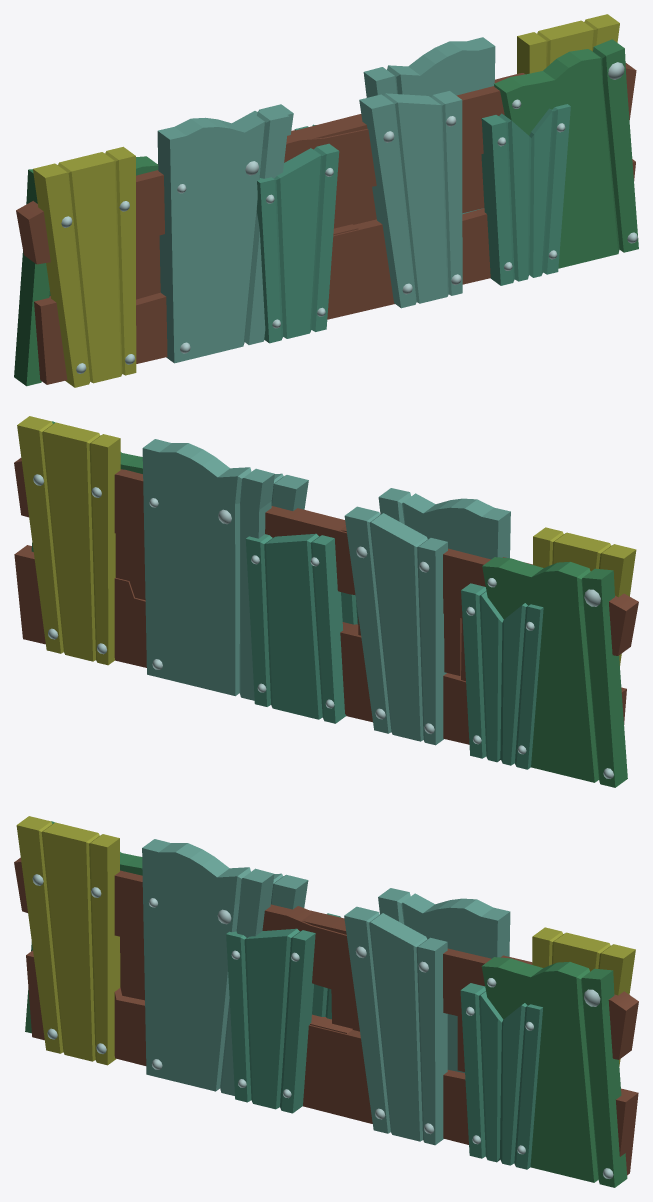
File: BR_Gate_7x2.5x1.fbx
The picture shows the model from 3 angles, top to bottom: view 1: azimuth 30°, elevation 25°; view 2: azimuth 150°, elevation 25°; view 3: azimuth 330°, elevation 25°; orthographic projection.
Parts seen in each view (by area): view 1: BR_Gate_7x2x1; view 2: BR_Gate_7x2x1; view 3: BR_Gate_7x2x1.
Boxes of the visible parts, x1,y1,x2,y2 form: BR_Gate_7x2x1: (14,14,638,387); BR_Gate_7x2x1: (14,416,638,787); BR_Gate_7x2x1: (14,816,638,1187).
Bounding box in the file's own units: 686 × 247 × 73.45.
